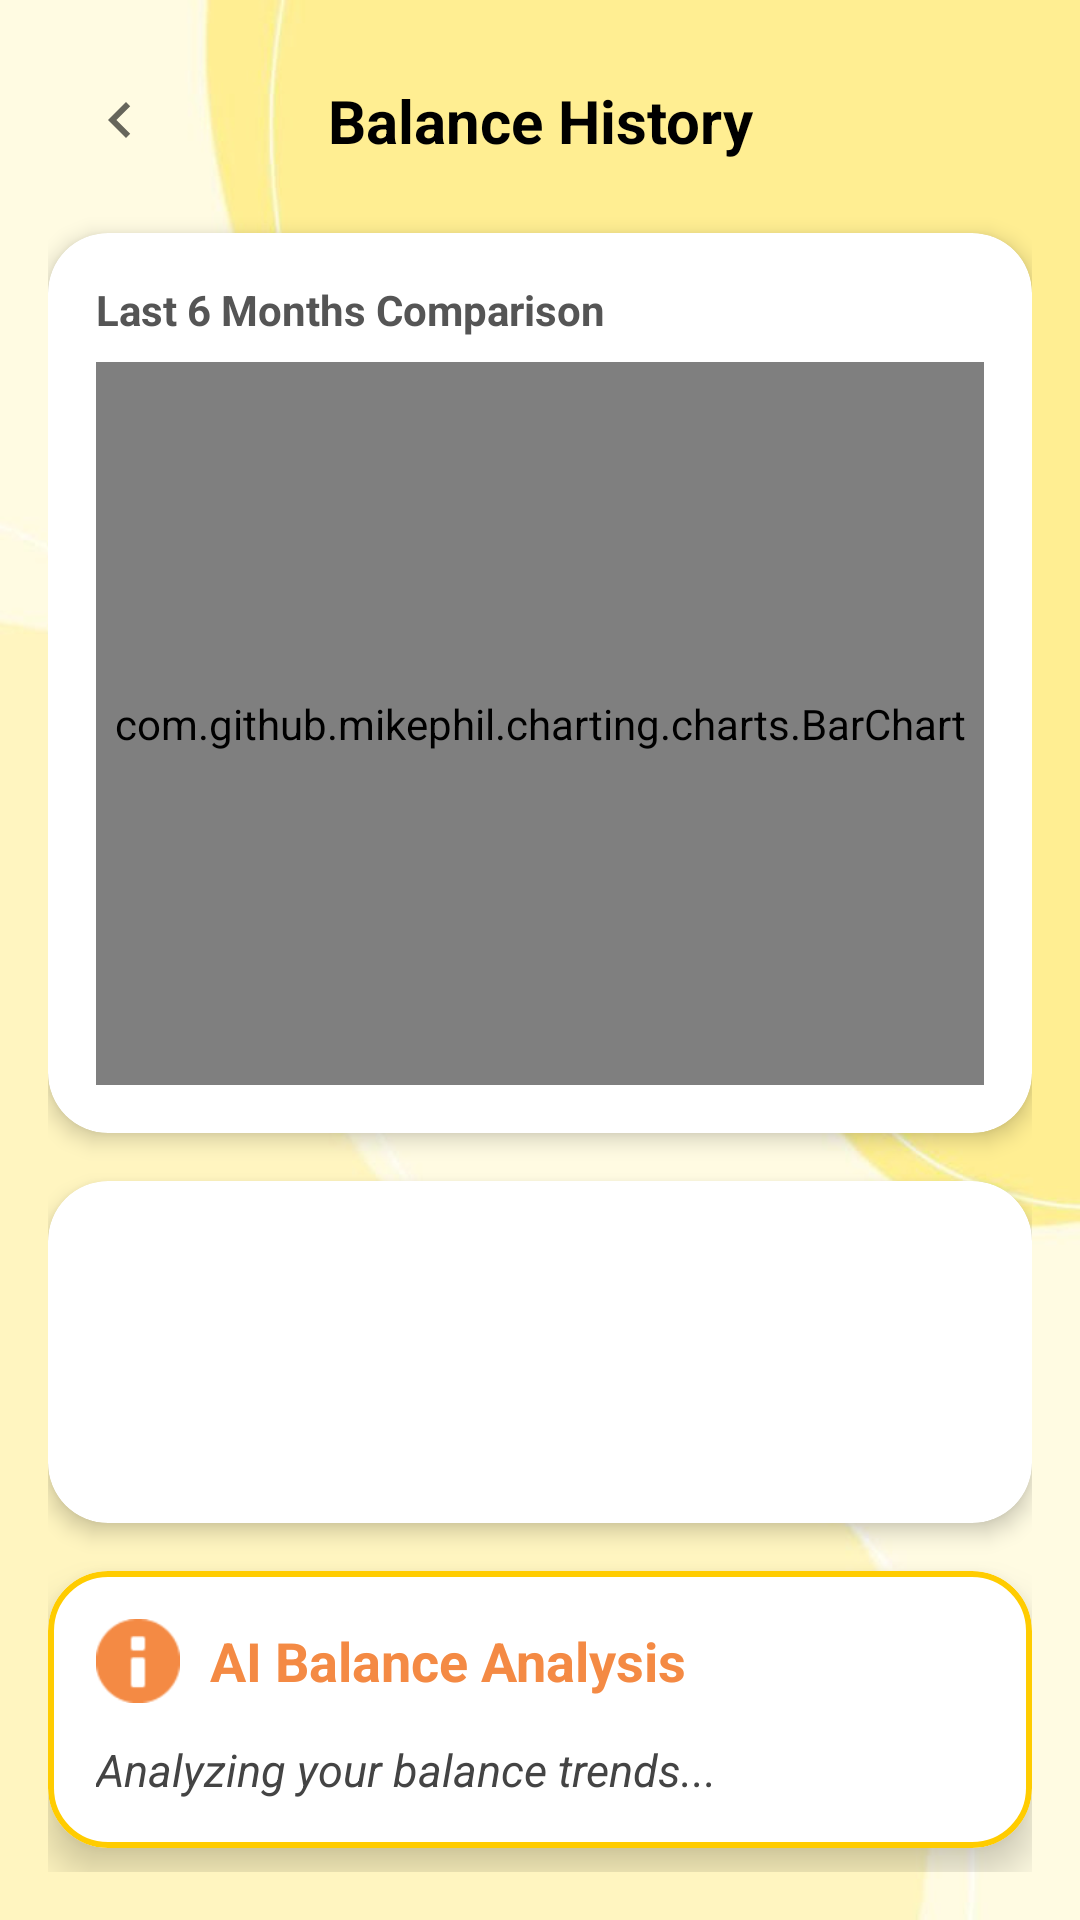

Named icons in this screenshot (1080x1920) and their centers, point (x, y):
backarrow name: point (119, 120)
info: point (138, 1661)
